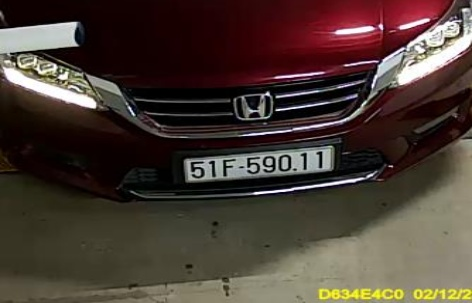plate: (180, 146, 338, 180)
